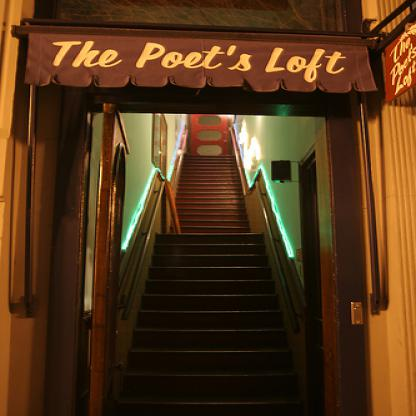stairs: (144, 302, 289, 413)
